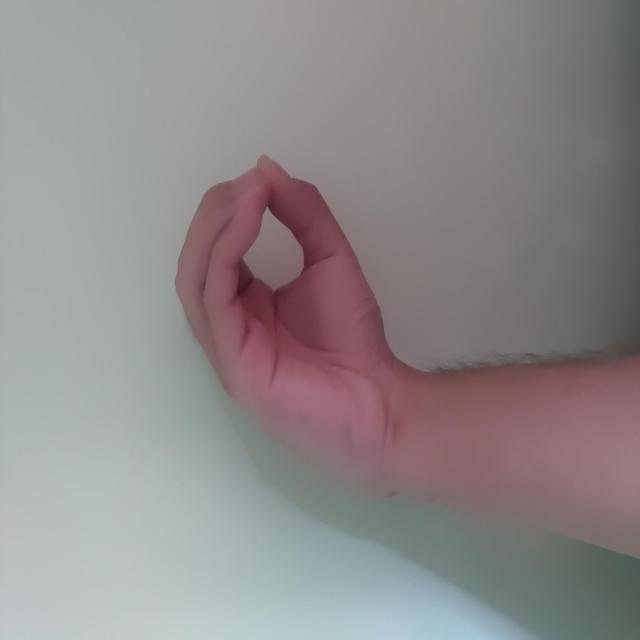O: (159, 174, 490, 397)
